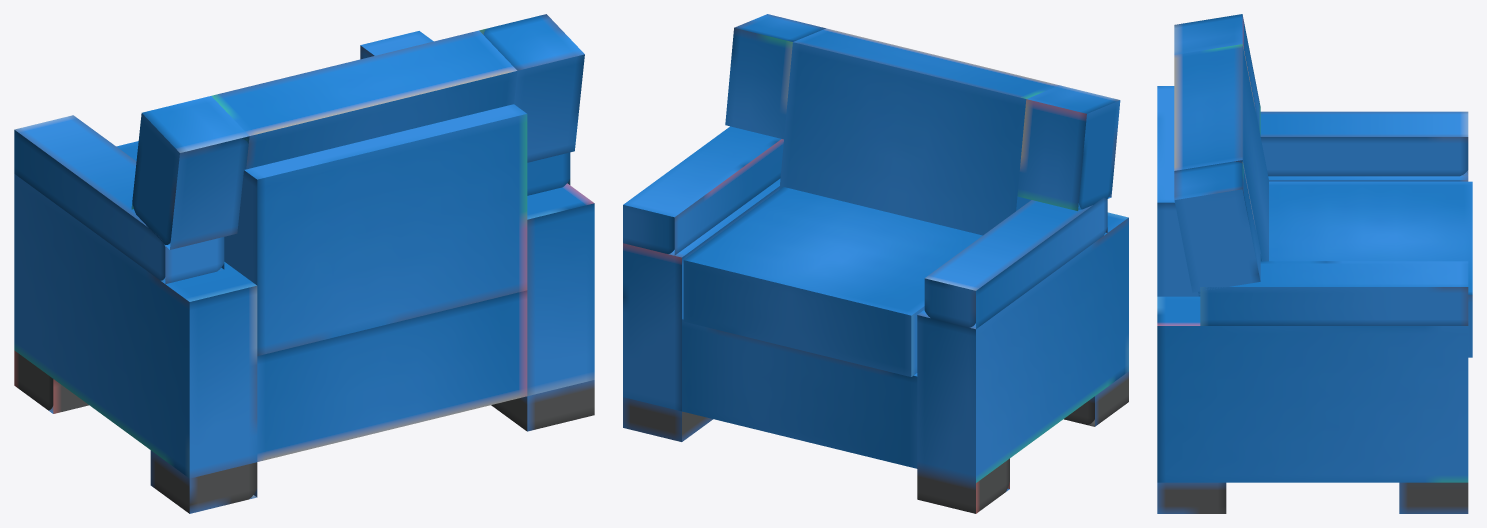
File: gauč_2.fbx
3 renders of one model, left to right at view 1: azimuth 30°, elevation 25°; view 2: azimuth 150°, elevation 25°; view 3: azimuth 270°, elevation 25°, orthographic. The views are drawn at different scales.
Parts seen in each view (by area): view 1: cube_8, cube_11, cube, cube_4, cube_13, cube_12, cube_1, cube_6, cube_9, cube_7, cube_5, cube_10; view 2: cube_4, cube_3, cube_11, cube, cube_12, cube_5, cube_13, cube_1, cube_6, cube_10, cube_2, cube_9; view 3: cube_1, cube_3, cube_5, cube_12, cube_4, cube_6, cube_8, cube_13, cube_2, cube_7, cube_11.
Boxes of the visible parts, x1,y1,x2,y2 form: cube_8: (224, 104, 527, 355); cube_11: (14, 174, 257, 478); cube: (257, 290, 527, 461); cube_4: (211, 30, 517, 169); cube_13: (131, 96, 249, 249); cube_12: (14, 115, 224, 283); cube_1: (527, 183, 594, 396); cube_6: (479, 14, 584, 162); cube_9: (150, 450, 257, 513); cube_7: (491, 380, 594, 431); cube_5: (360, 31, 570, 195); cube_10: (14, 350, 88, 413); cube_4: (779, 28, 1059, 235); cube_3: (683, 187, 982, 376); cube_11: (917, 212, 1128, 482); cube: (682, 318, 917, 468); cube_12: (924, 197, 1107, 328); cube_5: (623, 126, 783, 255); cube_13: (1017, 85, 1120, 210); cube_1: (623, 178, 780, 411); cube_6: (725, 14, 825, 139); cube_10: (917, 458, 1009, 513); cube_2: (623, 397, 712, 441); cube_9: (1064, 371, 1128, 426); cube_1: (1157, 296, 1468, 482); cube_3: (1269, 181, 1472, 357); cube_5: (1200, 261, 1468, 325); cube_12: (1260, 111, 1468, 176); cube_4: (1174, 44, 1269, 296); cube_6: (1174, 160, 1260, 292); cube_8: (1157, 86, 1200, 296); cube_13: (1174, 14, 1260, 135); cube_2: (1399, 482, 1468, 513); cube_7: (1157, 482, 1226, 513); cube_11: (1268, 170, 1468, 181).
Size of the model in its own units: 75 by 64.77 by 57.03.
Materials: 1 (1 with a texture image).
